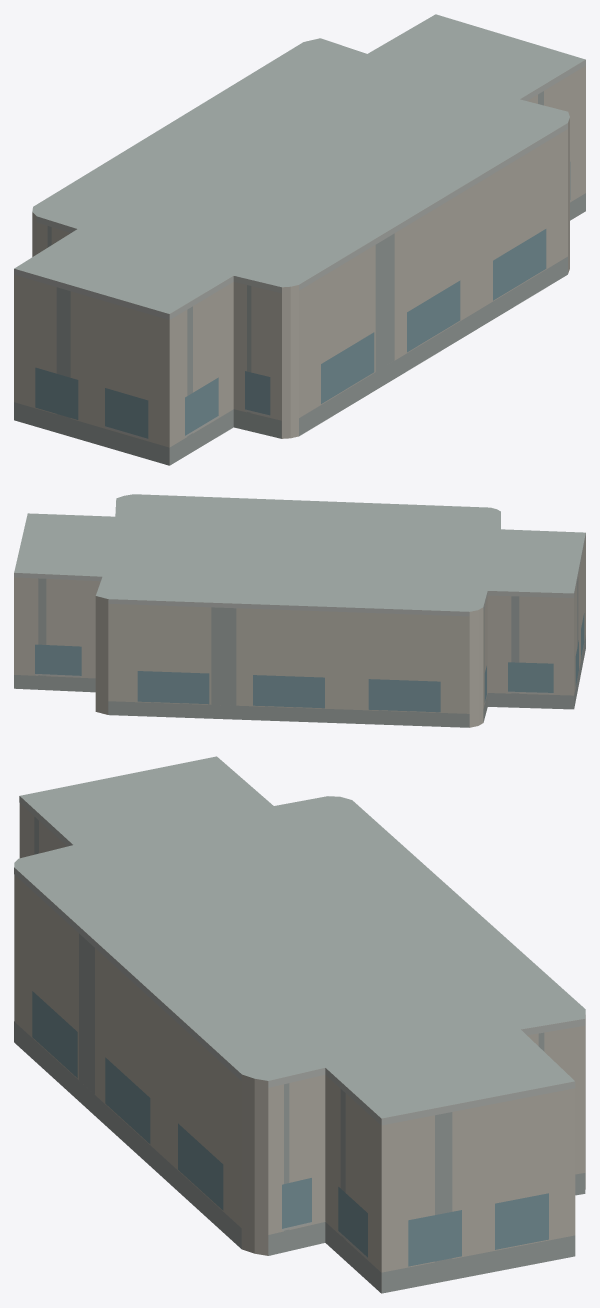
File: survey-upis-32745189.glb
The picture shows the model from 3 angles, top to bottom: view 1: azimuth 30°, elevation 25°; view 2: azimuth 150°, elevation 25°; view 3: azimuth 270°, elevation 25°; orthographic projection. The views are drawn at different scales.
Visible parts, largest first — view 1: survey-upis-32745189.tmp; view 2: survey-upis-32745189.tmp; view 3: survey-upis-32745189.tmp.
Part boxes in pixels (<box>): survey-upis-32745189.tmp: <box>14,14,585,465</box>; survey-upis-32745189.tmp: <box>14,494,585,727</box>; survey-upis-32745189.tmp: <box>14,756,585,1293</box>.
Bounding box in the file's own units: 27.09 × 6.1 × 18.07.
